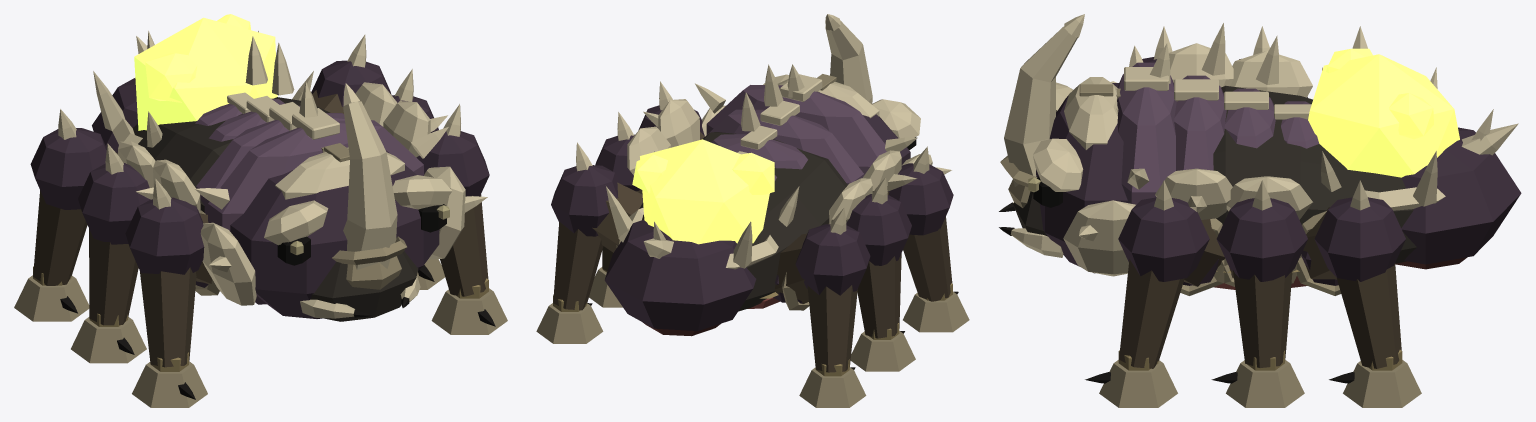
Rendered from charger_brood.fbx.
3 views of the same model, side by side, from view 1: azimuth 30°, elevation 25°; view 2: azimuth 150°, elevation 25°; view 3: azimuth 270°, elevation 25° (orthographic). The views are drawn at different scales.
Visible parts, largest first — view 1: Ram, Body, Leg_2, Abdomen, Leg_6, Leg_4, Leg_1, Leg_5, Leg_3; view 2: Body, Abdomen, Leg_6, Leg_5, Leg_4, Leg_2, Ram, Leg_3, Leg_1; view 3: Body, Ram, Leg_5, Leg_1, Abdomen, Leg_3.
Part boxes in pixels (x1,y1,x2,y2): Ram: (194, 83, 487, 321); Body: (92, 30, 447, 304); Leg_2: (125, 178, 211, 407); Abdomen: (134, 14, 277, 130); Leg_6: (14, 109, 117, 321); Leg_4: (71, 143, 150, 363); Leg_1: (416, 104, 507, 334); Leg_5: (311, 34, 391, 113); Leg_3: (392, 69, 444, 289); Body: (604, 64, 916, 336); Abdomen: (632, 139, 774, 244); Leg_6: (773, 207, 870, 407); Leg_5: (536, 142, 642, 343); Leg_4: (828, 177, 915, 371); Leg_2: (887, 146, 969, 332); Ram: (695, 14, 951, 174); Leg_3: (589, 112, 642, 307); Leg_1: (638, 81, 704, 139); Body: (1116, 23, 1521, 295); Ram: (999, 14, 1178, 276); Leg_5: (1301, 180, 1421, 407); Leg_1: (1085, 180, 1224, 407); Abdomen: (1308, 48, 1459, 177); Leg_3: (1211, 180, 1307, 407).
Size of the model in its own units: 10.25 by 8.04 by 12.55.
9 materials, 8 textured.
